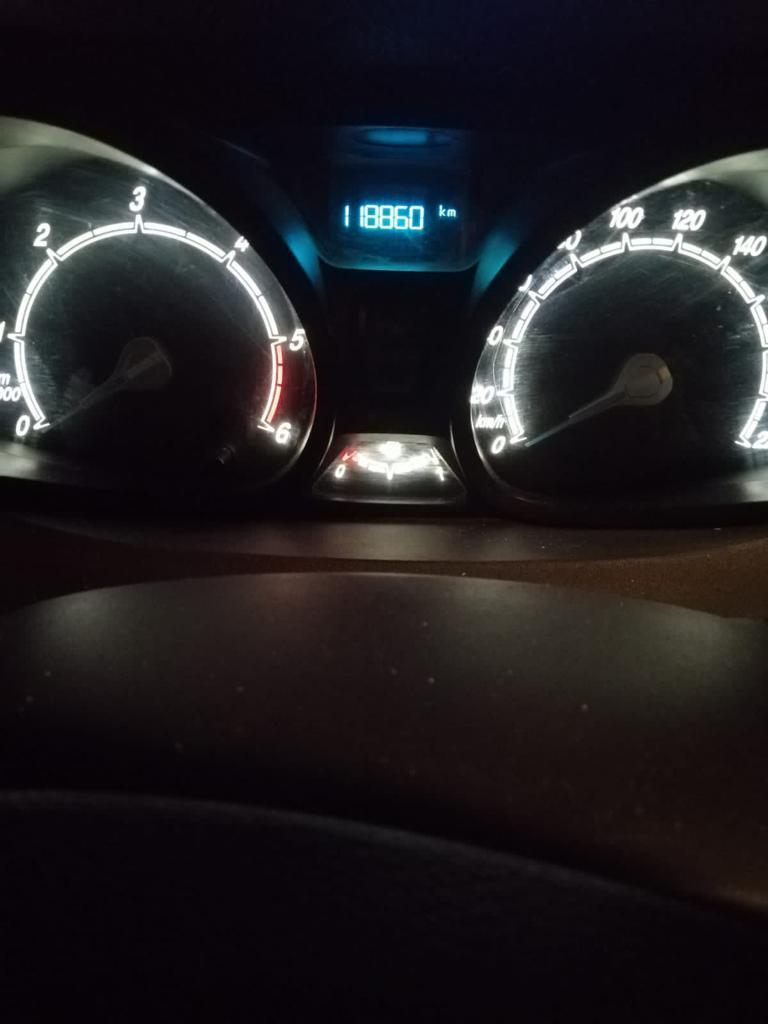0: (408, 204, 423, 229)
1: (342, 203, 349, 227), (358, 204, 363, 226)
6: (393, 204, 408, 228)
8: (363, 203, 378, 228), (378, 204, 393, 228)
X: (437, 203, 445, 216), (446, 207, 456, 216)
odometer: (327, 175, 465, 256)
